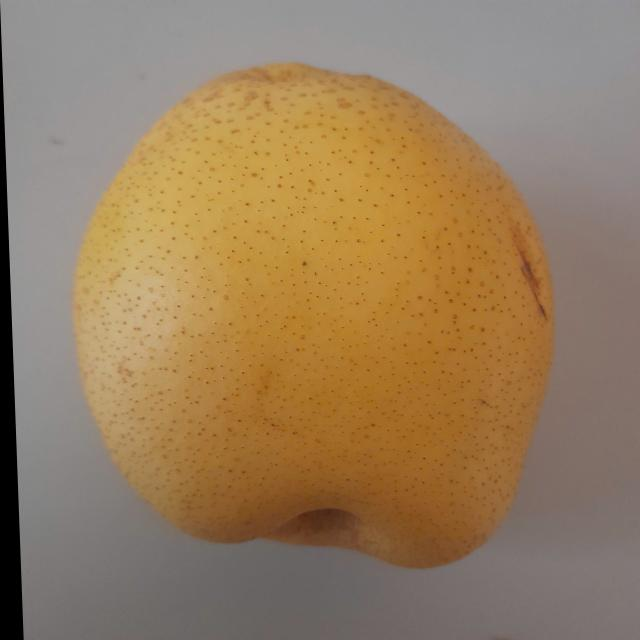Le: (59, 59, 564, 593)
